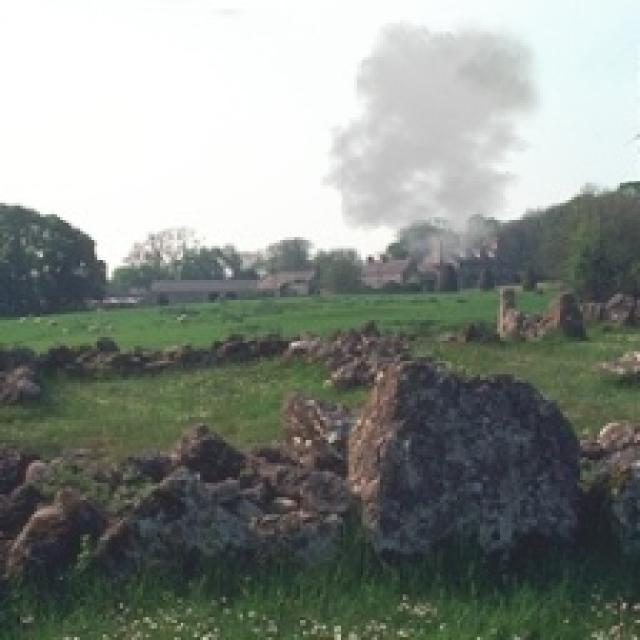smoke: (320, 11, 549, 266)
